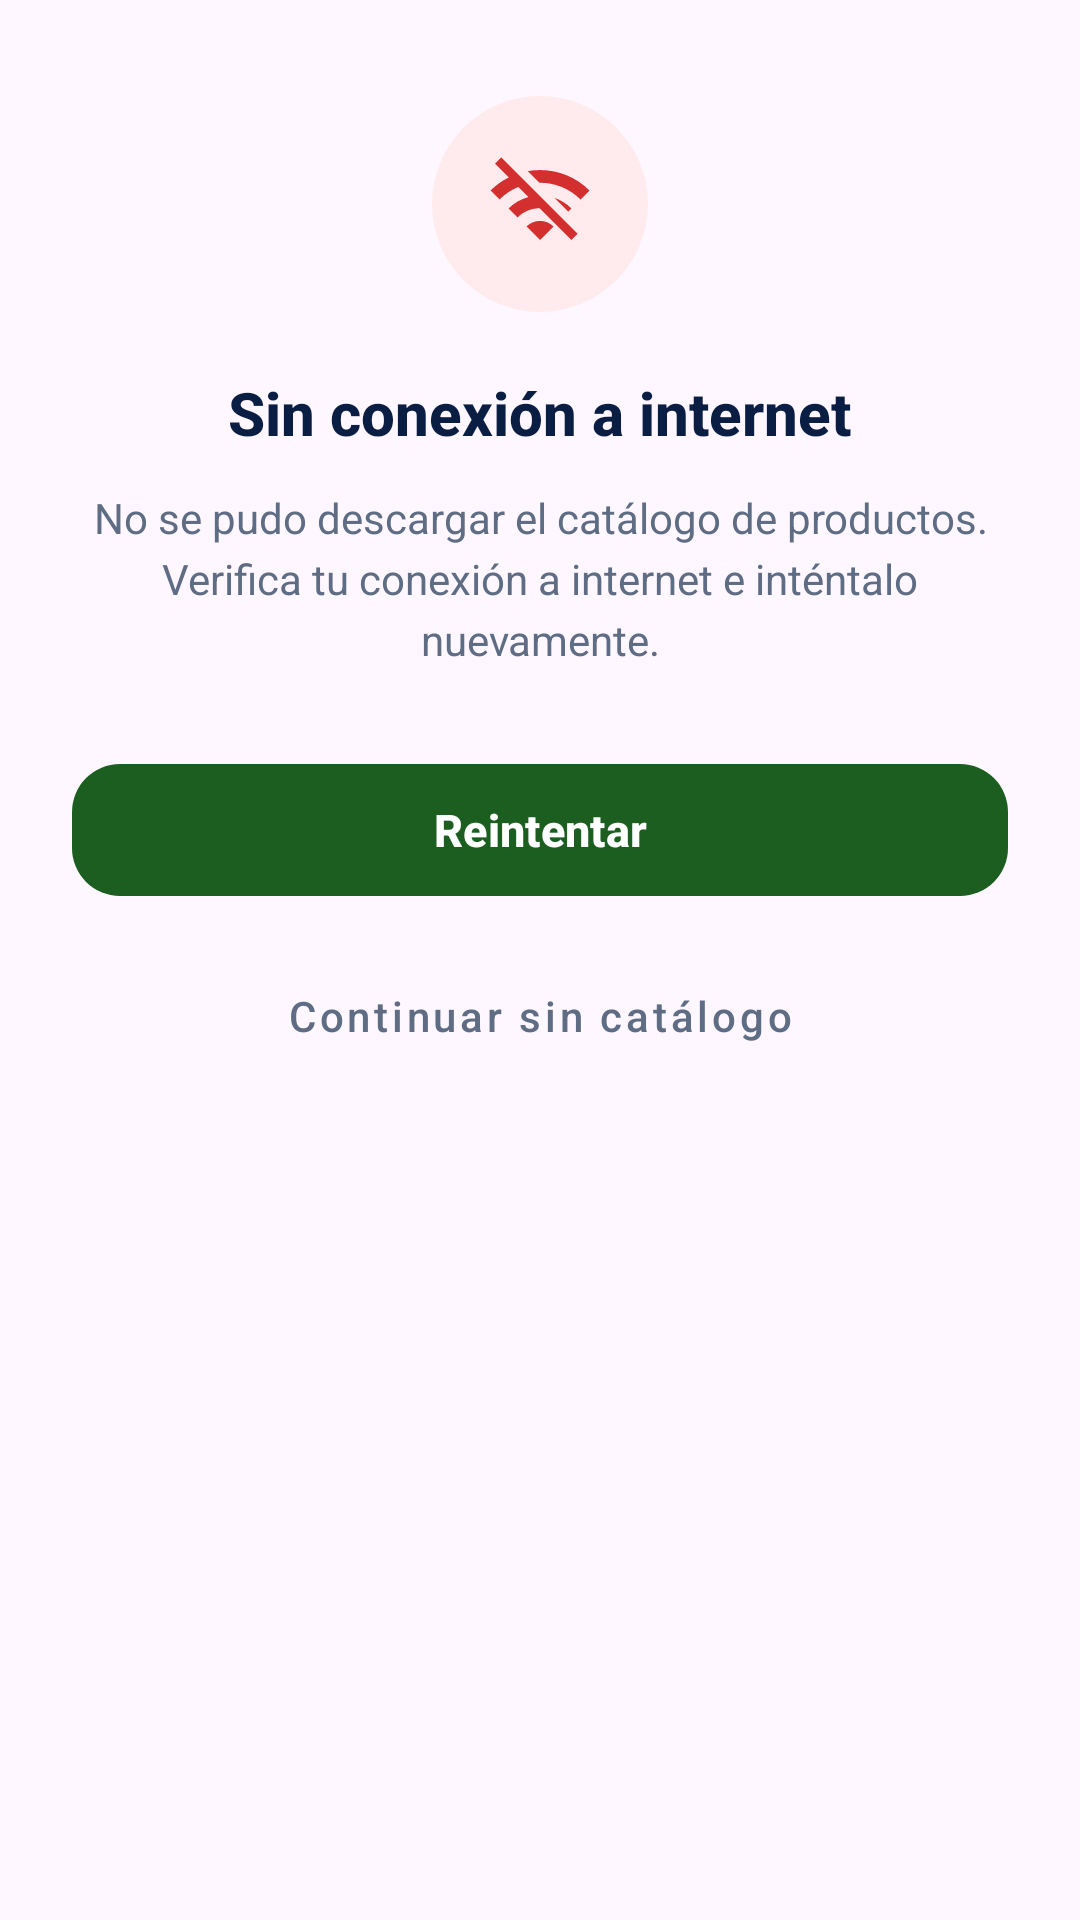

Where to tap for icons on this 1080x1920 app screen, as (x,y):
wifi off: (540,198)
